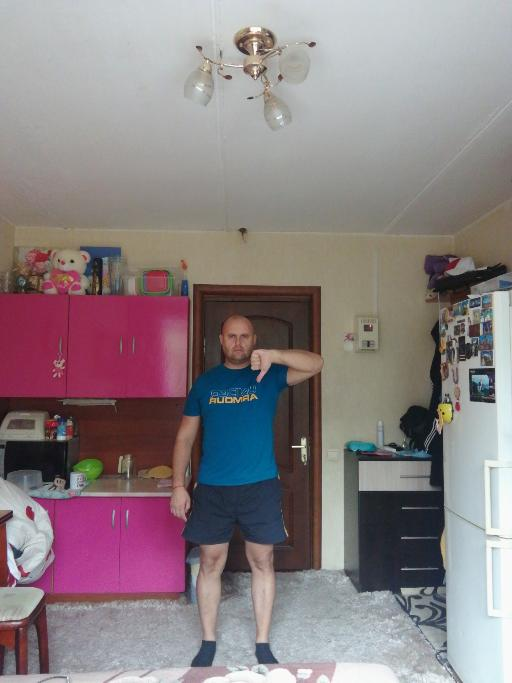dislike: (248, 346, 272, 382)
no_gesture: (168, 486, 192, 522)
